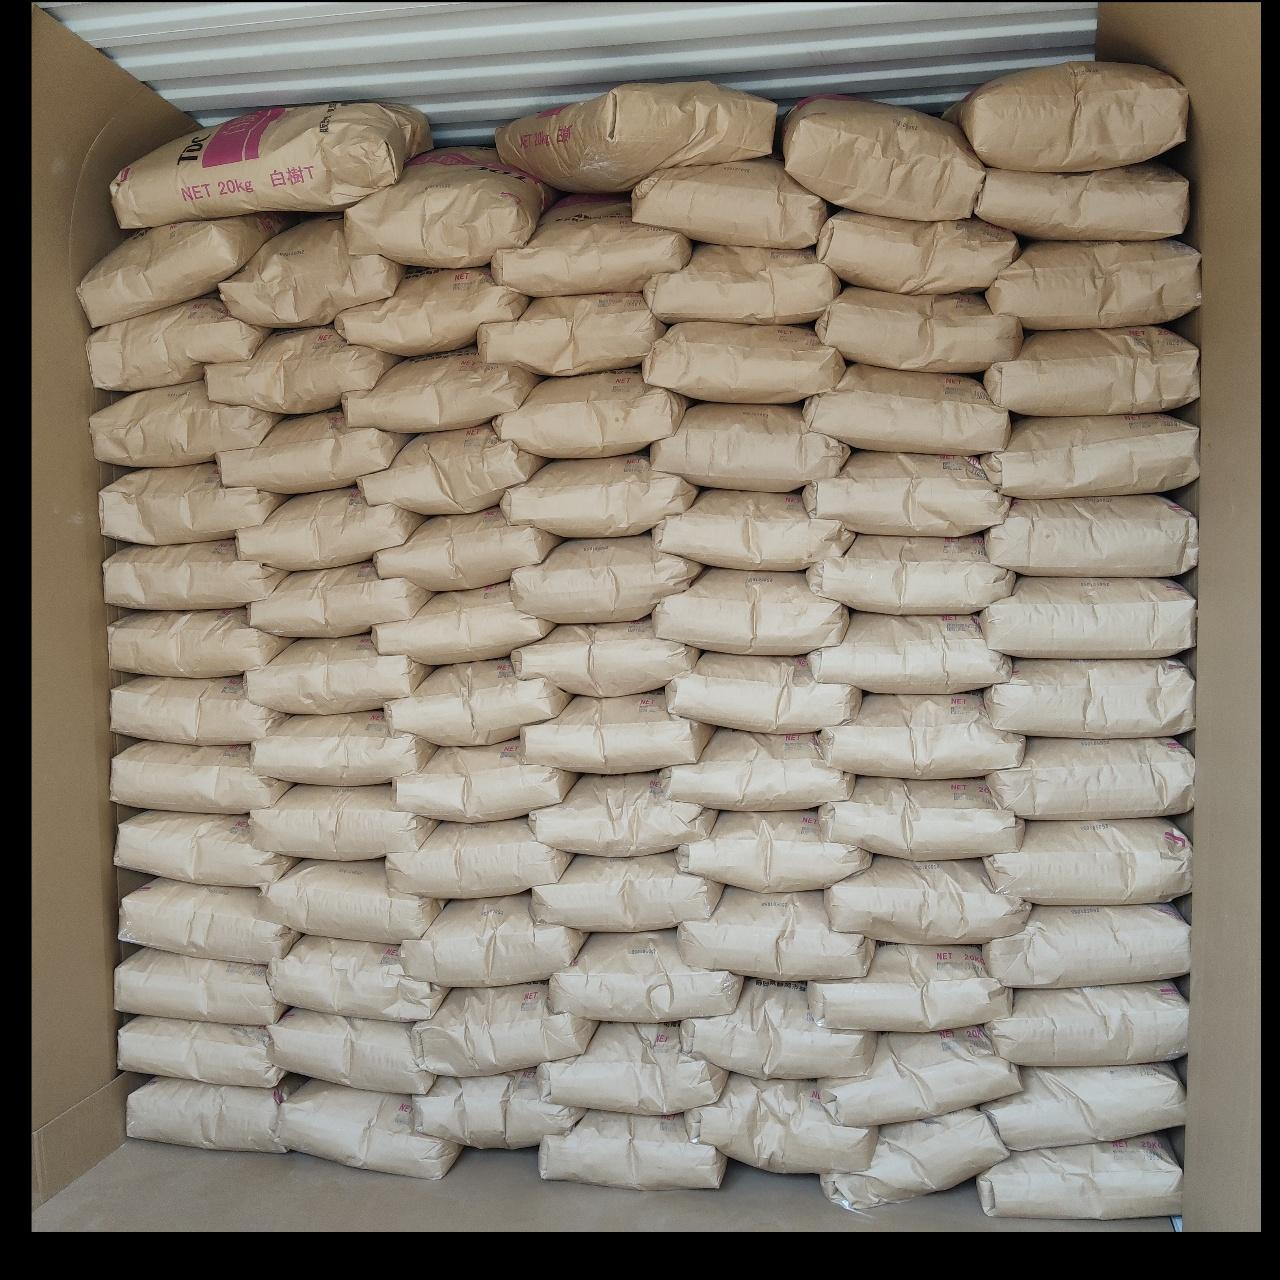sack: (110, 102, 430, 229), (498, 80, 774, 190), (952, 60, 1189, 168), (346, 148, 552, 266), (784, 98, 982, 216), (80, 215, 288, 324), (222, 218, 404, 326), (818, 1028, 1020, 1124), (682, 980, 874, 1078), (983, 326, 1198, 414), (493, 198, 688, 294), (685, 1076, 876, 1172), (804, 365, 1006, 454), (988, 240, 1198, 326), (278, 1080, 459, 1178), (822, 1110, 1006, 1206), (808, 944, 1010, 1030), (826, 856, 1028, 942), (88, 294, 270, 390), (680, 888, 870, 980), (982, 414, 1198, 493), (816, 288, 1022, 372), (550, 932, 740, 1022), (978, 1133, 1180, 1218), (983, 821, 1190, 903), (982, 1064, 1184, 1148), (634, 159, 828, 246), (986, 496, 1198, 574), (808, 612, 1010, 694), (804, 452, 1006, 535), (821, 694, 1022, 776), (983, 904, 1189, 983), (980, 578, 1194, 654), (974, 162, 1189, 238), (512, 536, 700, 622), (988, 738, 1192, 818), (818, 778, 1022, 858), (336, 268, 526, 354), (654, 570, 846, 654), (806, 535, 1014, 612), (538, 1024, 726, 1110), (986, 982, 1186, 1062), (652, 404, 846, 486), (343, 348, 538, 430), (402, 894, 583, 982), (496, 370, 686, 454), (818, 212, 1016, 292), (207, 328, 396, 411), (416, 982, 594, 1070), (218, 410, 408, 492), (654, 490, 852, 568), (502, 454, 694, 535), (360, 424, 542, 510), (666, 652, 860, 731), (644, 322, 844, 400), (386, 658, 568, 742), (520, 692, 710, 772), (91, 382, 278, 464), (644, 244, 838, 322), (986, 660, 1192, 734), (374, 508, 558, 590), (530, 774, 716, 855), (260, 860, 442, 942), (678, 812, 869, 890), (660, 730, 852, 806), (270, 937, 445, 1020), (394, 740, 574, 821), (120, 880, 297, 962), (481, 294, 662, 374), (238, 488, 422, 566), (100, 464, 284, 542), (540, 1112, 724, 1189), (388, 818, 568, 896), (268, 1008, 434, 1092), (535, 855, 720, 930), (374, 584, 550, 662), (246, 636, 433, 710), (512, 620, 697, 694), (248, 561, 430, 636), (411, 1070, 583, 1148), (116, 812, 294, 886), (250, 787, 433, 858), (252, 712, 434, 782), (116, 948, 284, 1022), (113, 742, 286, 812), (104, 540, 286, 606), (110, 610, 286, 676), (120, 1016, 284, 1085), (128, 1078, 286, 1150), (113, 676, 284, 742)
